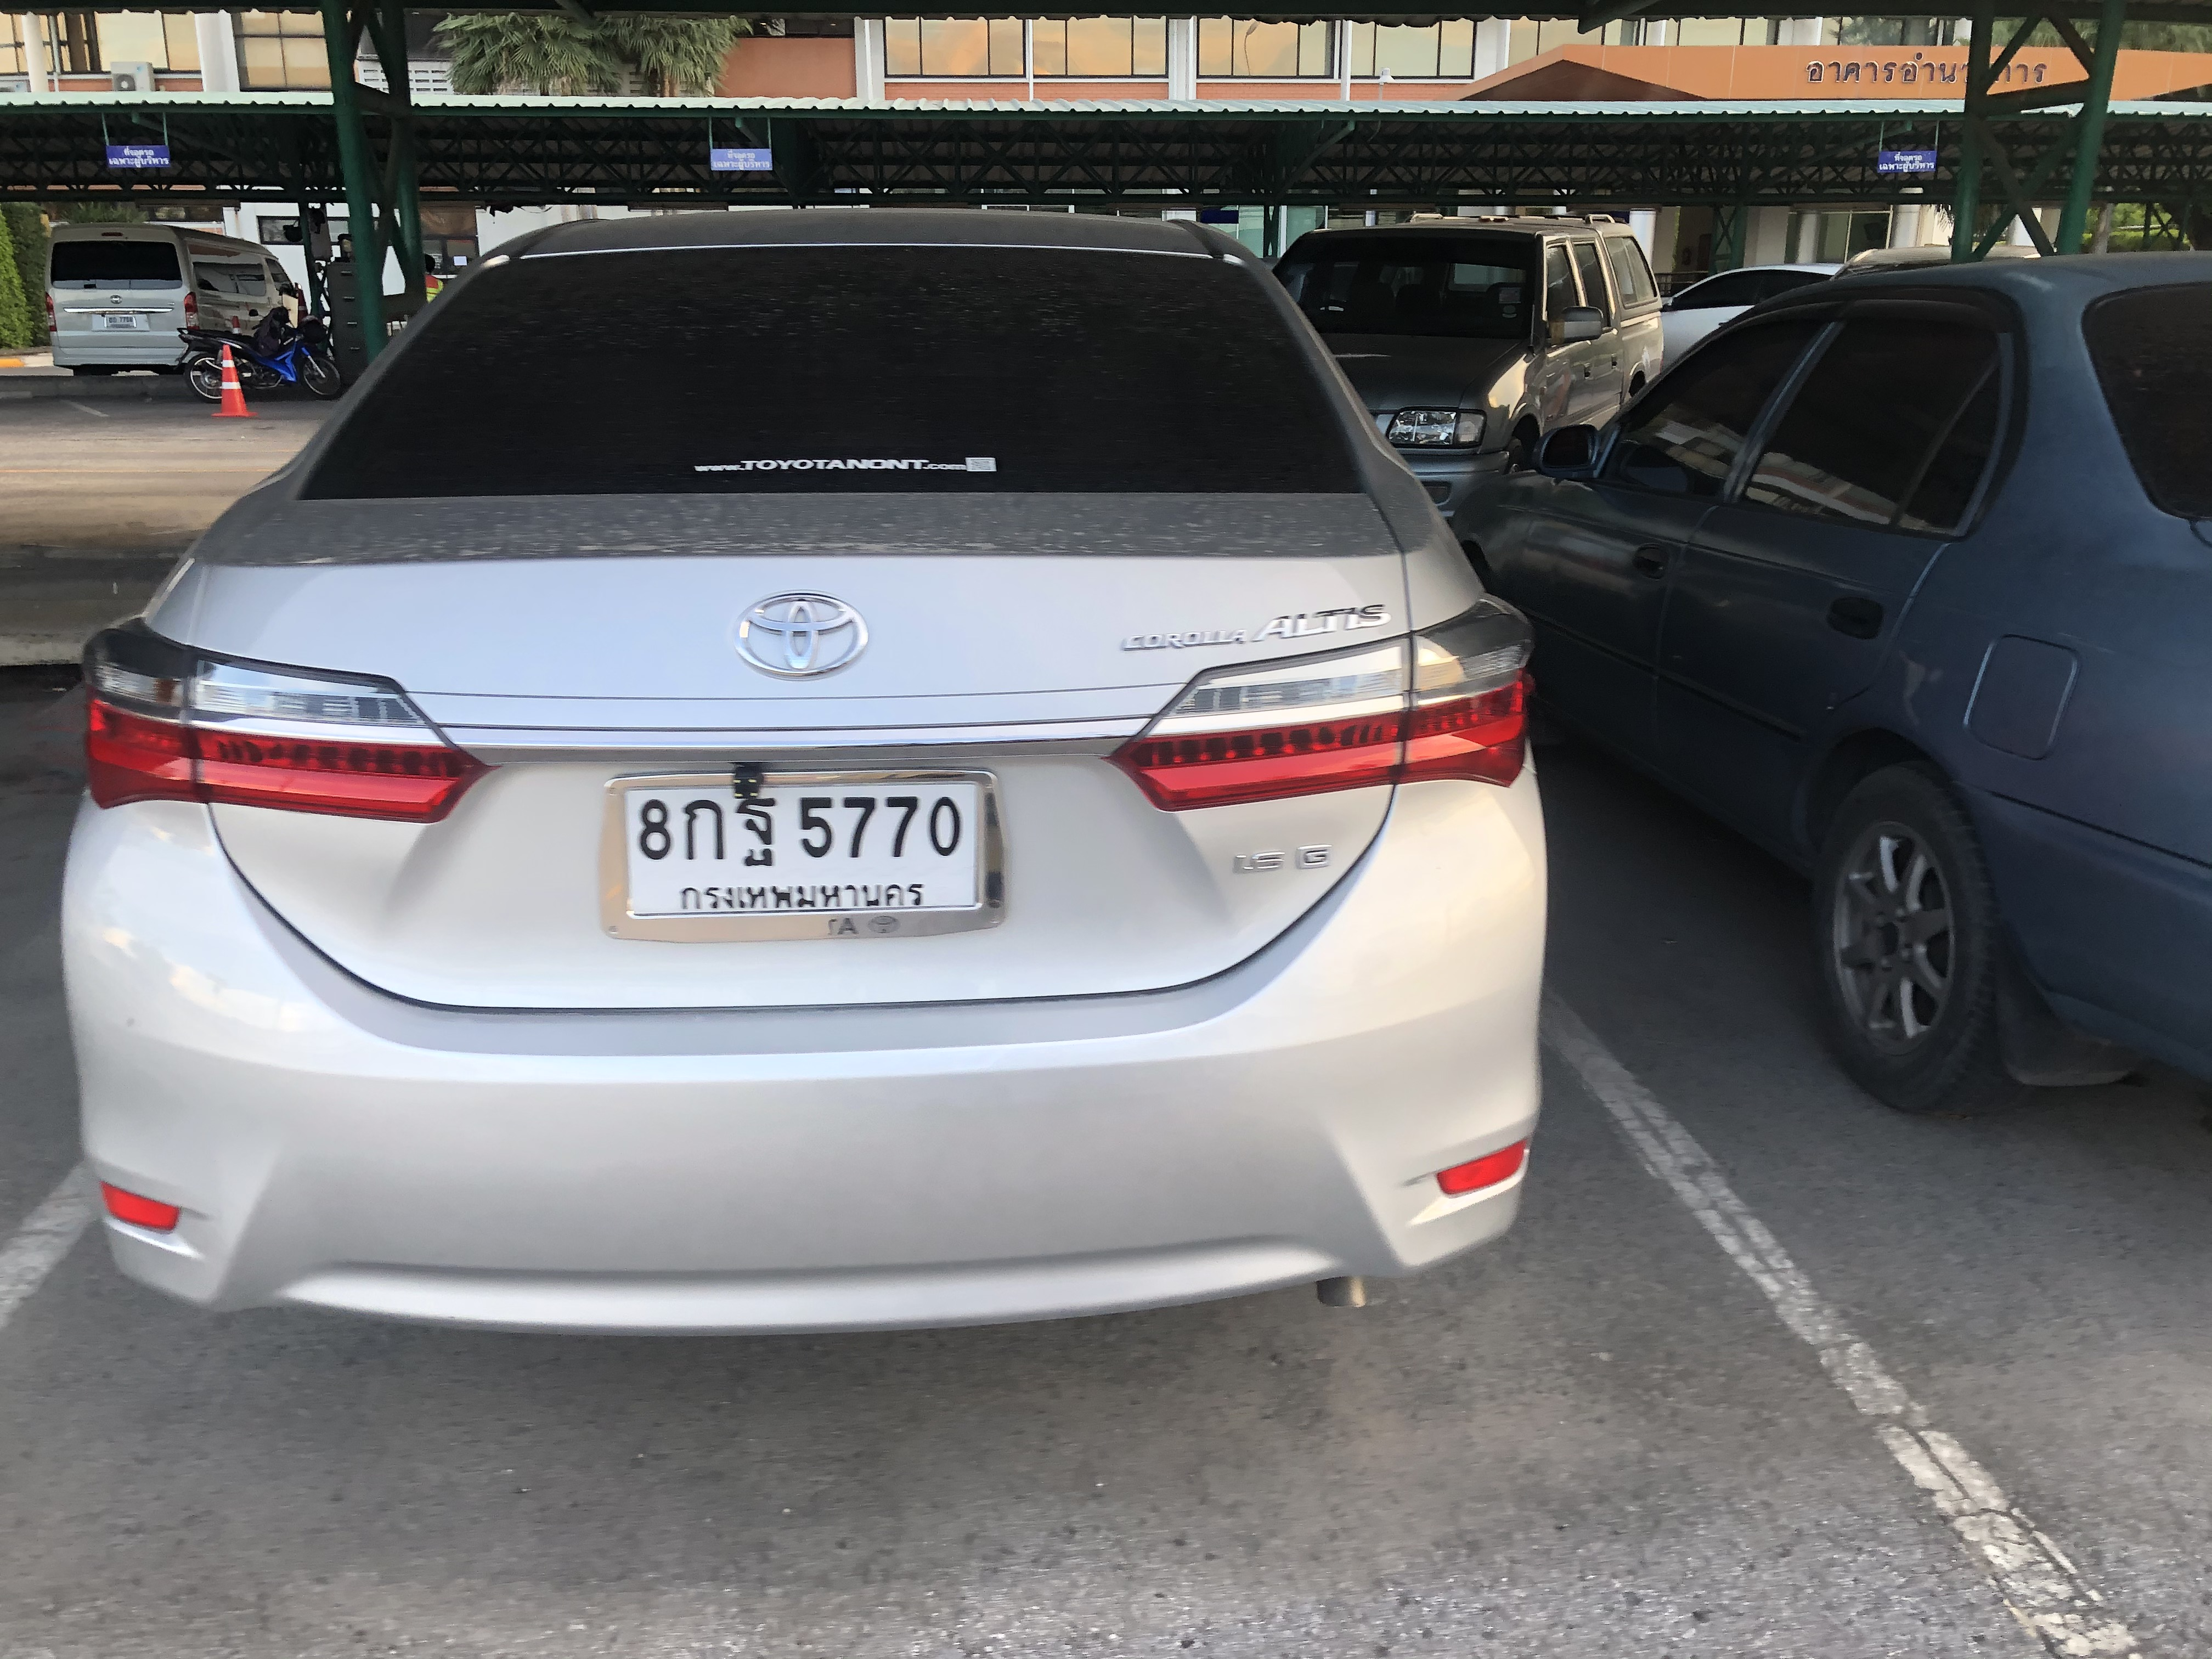in: (629, 784, 979, 915)
out: (594, 767, 1019, 945)
